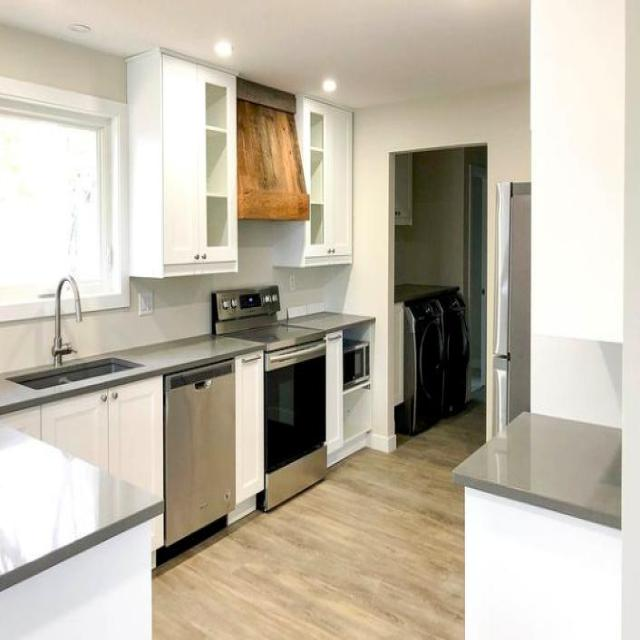dishwasher: (161, 357, 233, 541)
